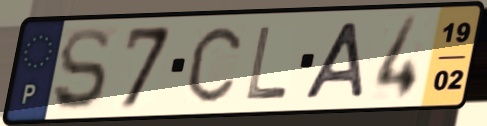4: (370, 13, 422, 104)
7: (121, 24, 174, 112)
A: (300, 19, 368, 102)
C: (185, 24, 244, 106)
L: (243, 24, 291, 101)
S: (49, 24, 112, 114)
